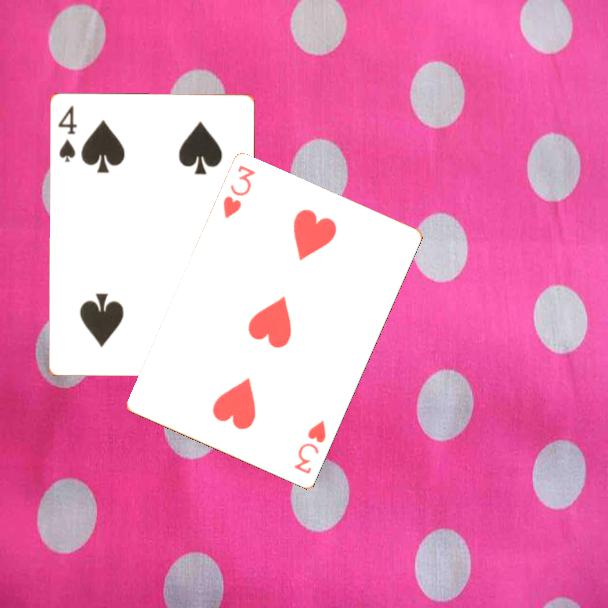h03: (219, 162, 258, 222), (291, 417, 329, 477)
s04: (54, 102, 80, 165)
